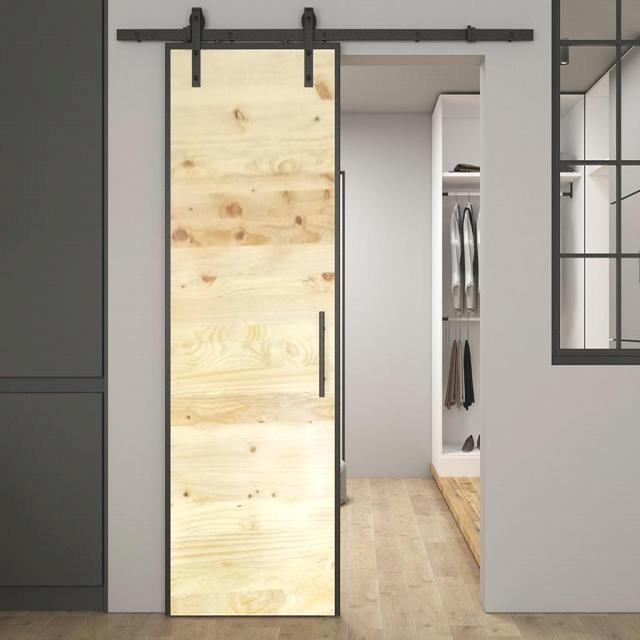door: (165, 41, 341, 617)
